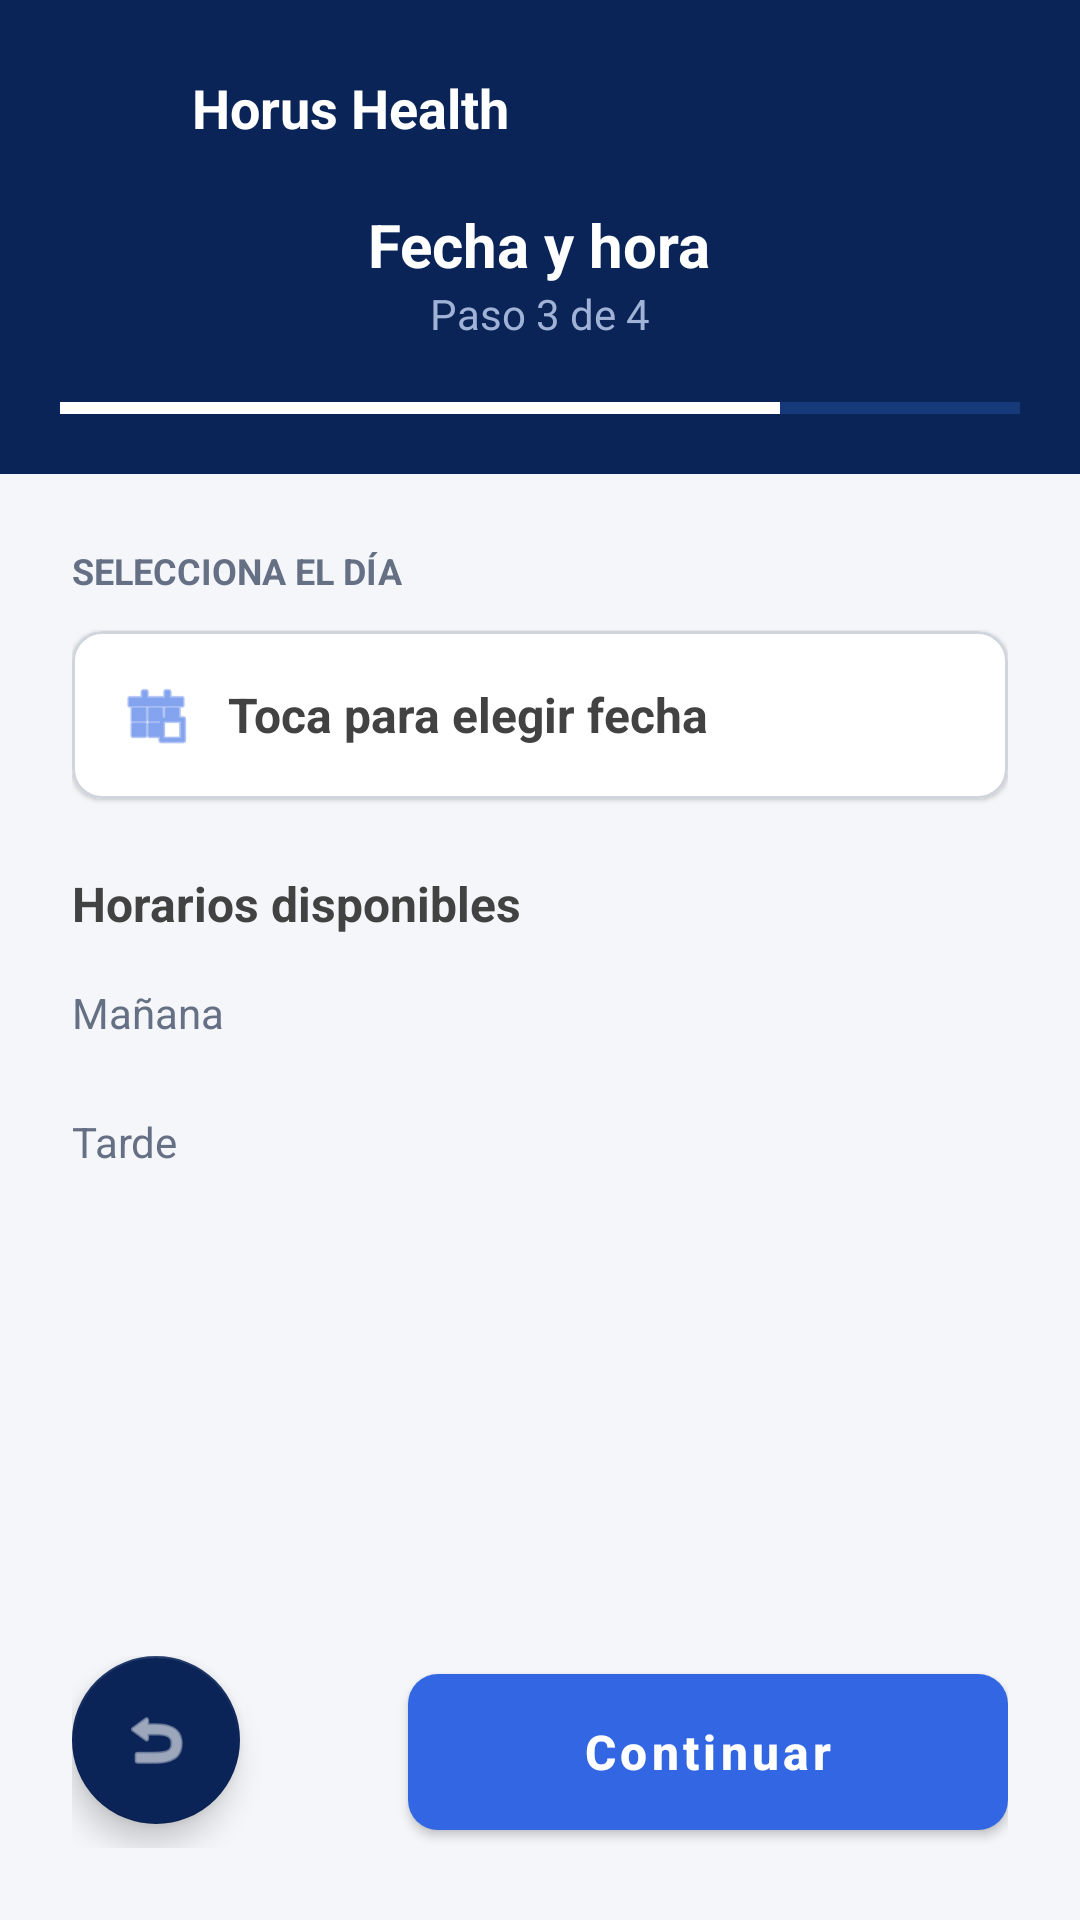

Where icons sit on this 1080*1920 app screen, as (x1, y1, x2, y2):
revert: (72, 1656, 240, 1824)
today: (127, 689, 186, 744)
